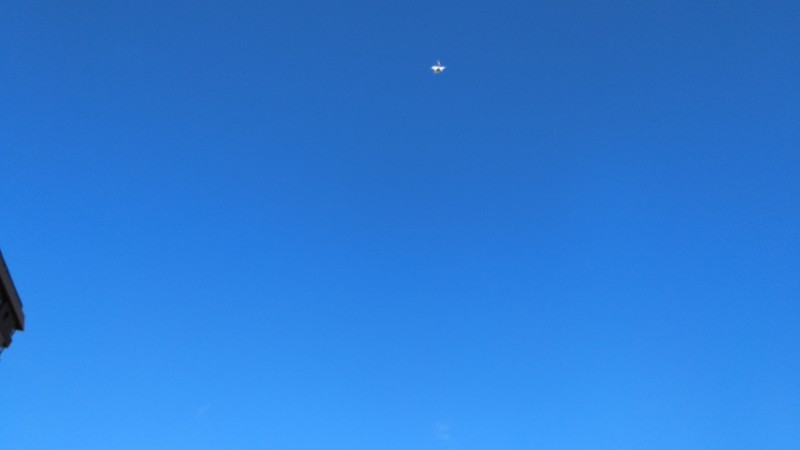drone: (430, 59, 449, 75)
